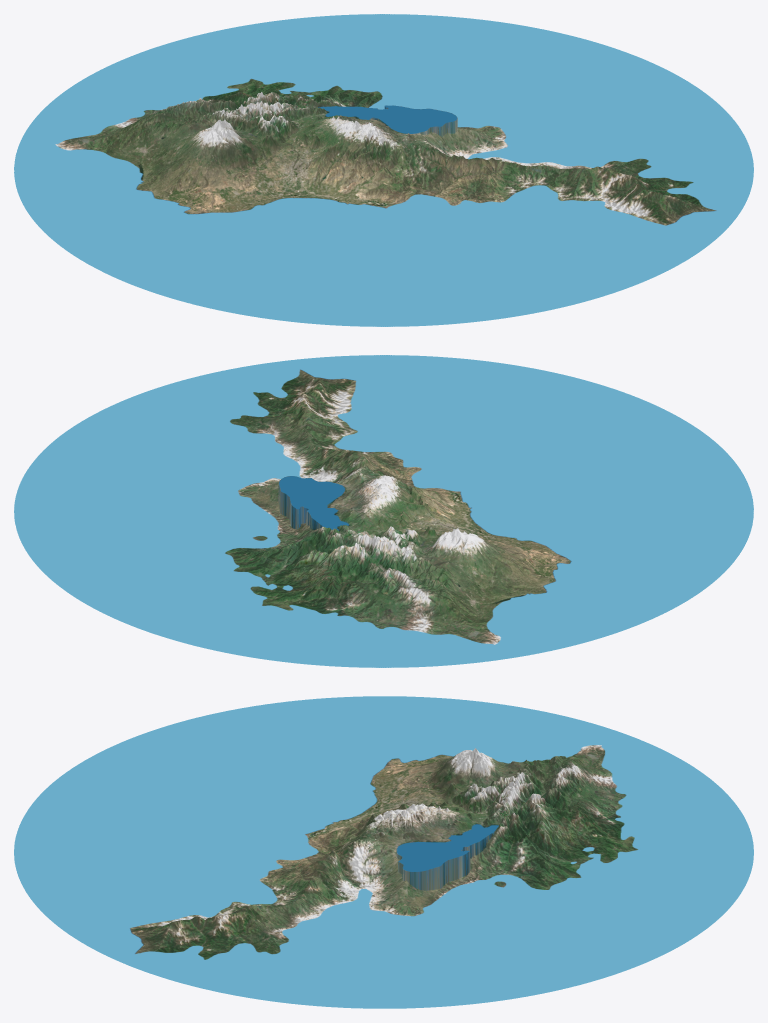
File: ARM-previa-terrain.glb
The picture shows the model from 3 angles, top to bottom: view 1: azimuth 30°, elevation 25°; view 2: azimuth 150°, elevation 25°; view 3: azimuth 270°, elevation 25°; orthographic projection.
Parts seen in each view (by area): view 1: Arménia; view 2: Arménia; view 3: Arménia.
Boxes of the visible parts, <box> form: Arménia: <box>14,14,753,326</box>; Arménia: <box>14,355,753,667</box>; Arménia: <box>14,696,753,1008</box>.
Size of the model in its own units: 2.55 by 0.1758 by 2.55.
Materials: 1 (1 with a texture image).
